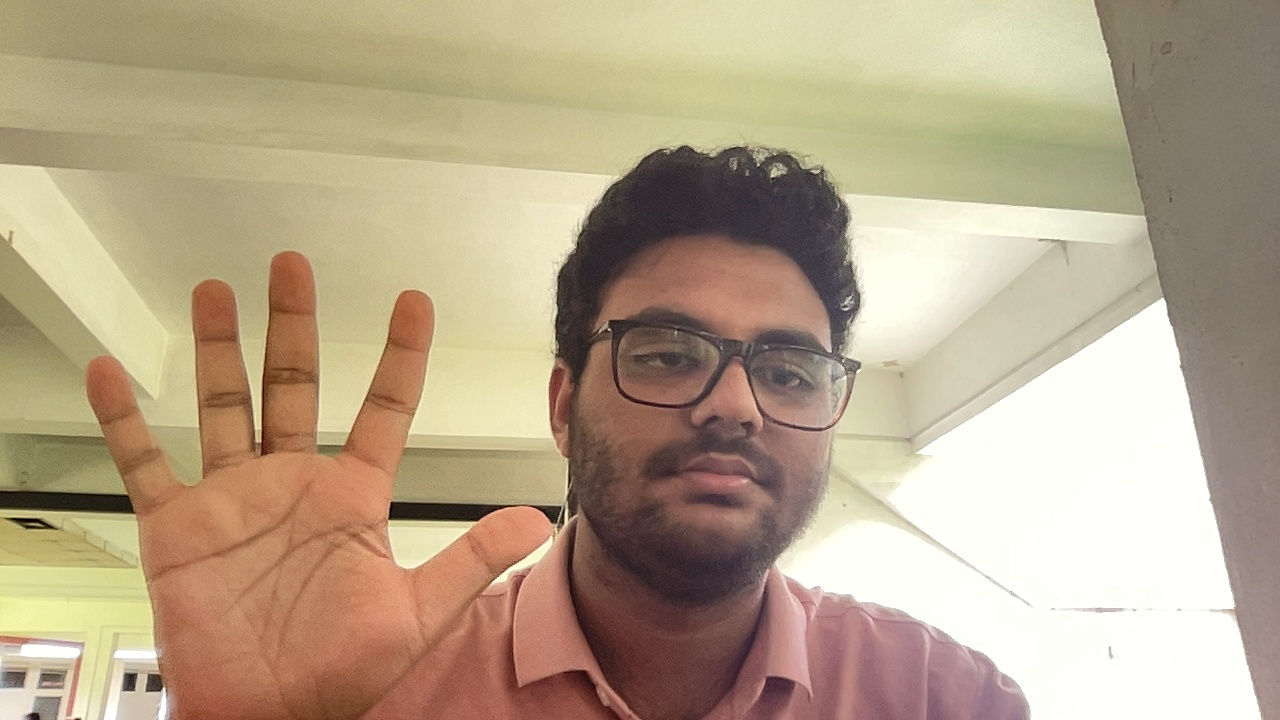hello: (54, 243, 555, 718)
